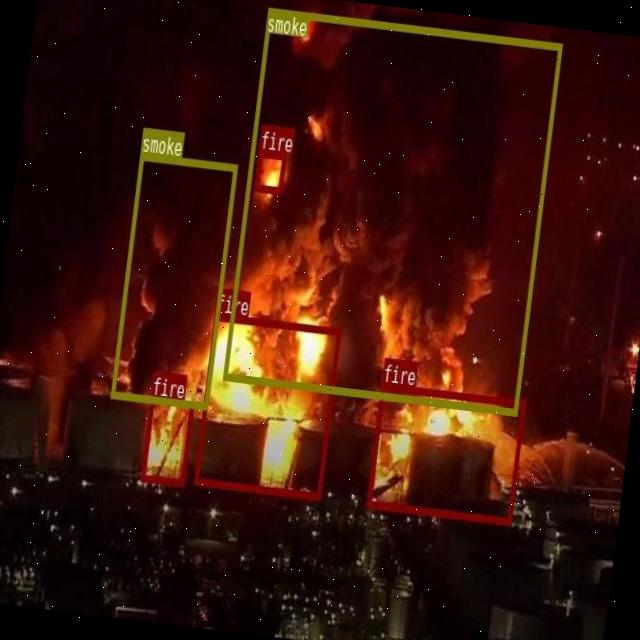fire: (193, 312, 340, 498), (366, 382, 525, 523), (140, 394, 193, 484), (253, 149, 286, 192)
smoke: (223, 8, 562, 414), (109, 152, 236, 409)
